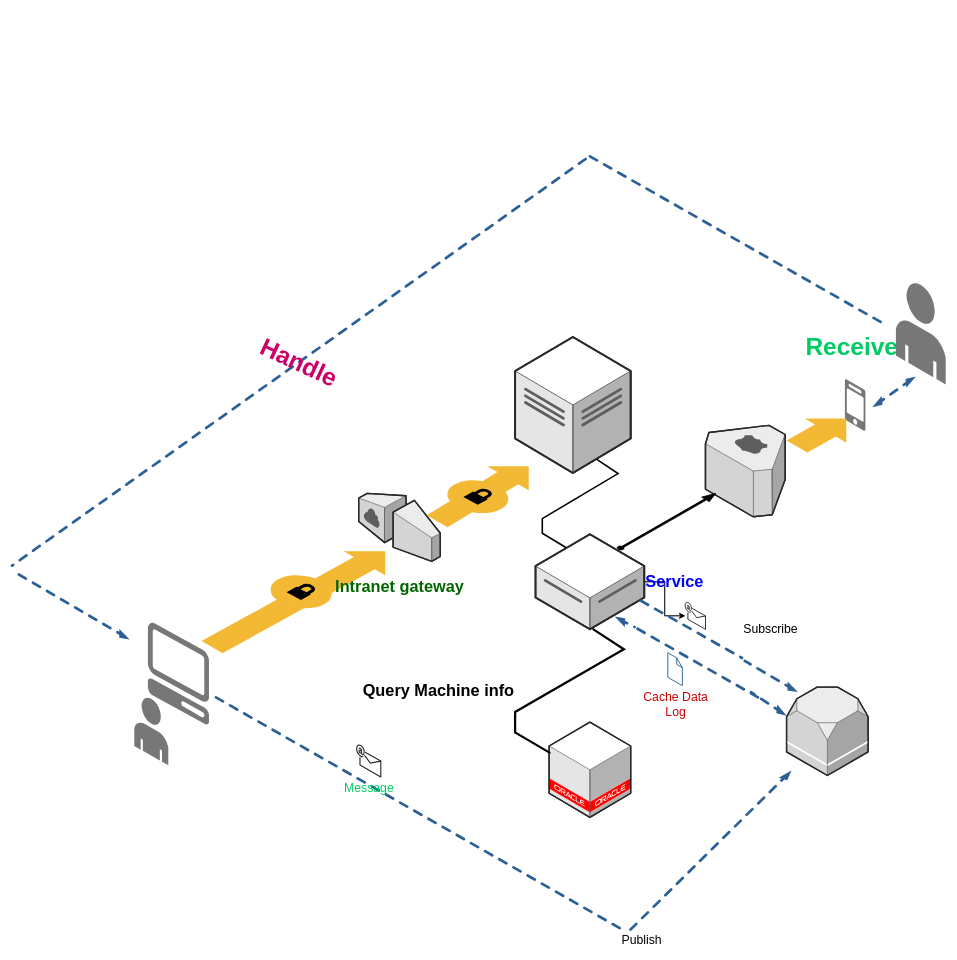
The diagram is 957 pixels wide and 960 high, and some of its shapes have lost their labels. The shapes that lost their labels are listed below. From the top down, each one's centre as x and y in pixels, then its label:
the point at 572,404: VM Server
the point at 745,471: Message Push GateWay
the point at 178,673: Call
the point at 827,731: Redis Db
